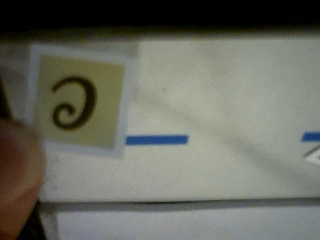C: (29, 54, 125, 150)
